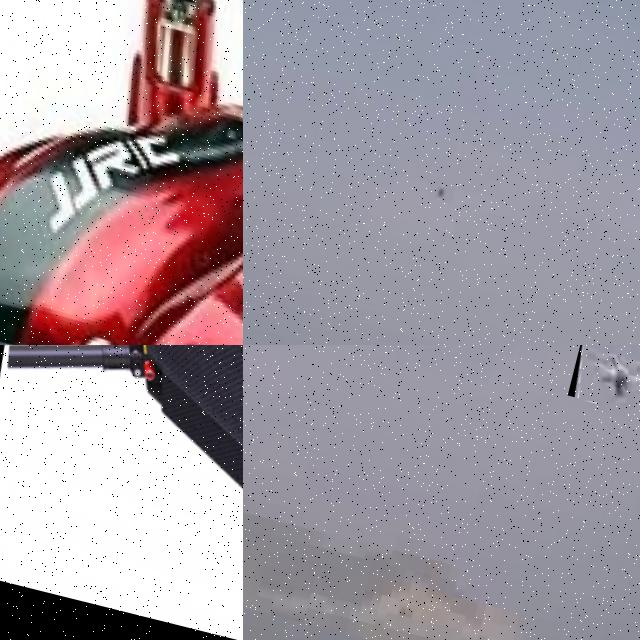0: (567, 345, 640, 413)
drone: (0, 0, 243, 345), (0, 345, 243, 640)
